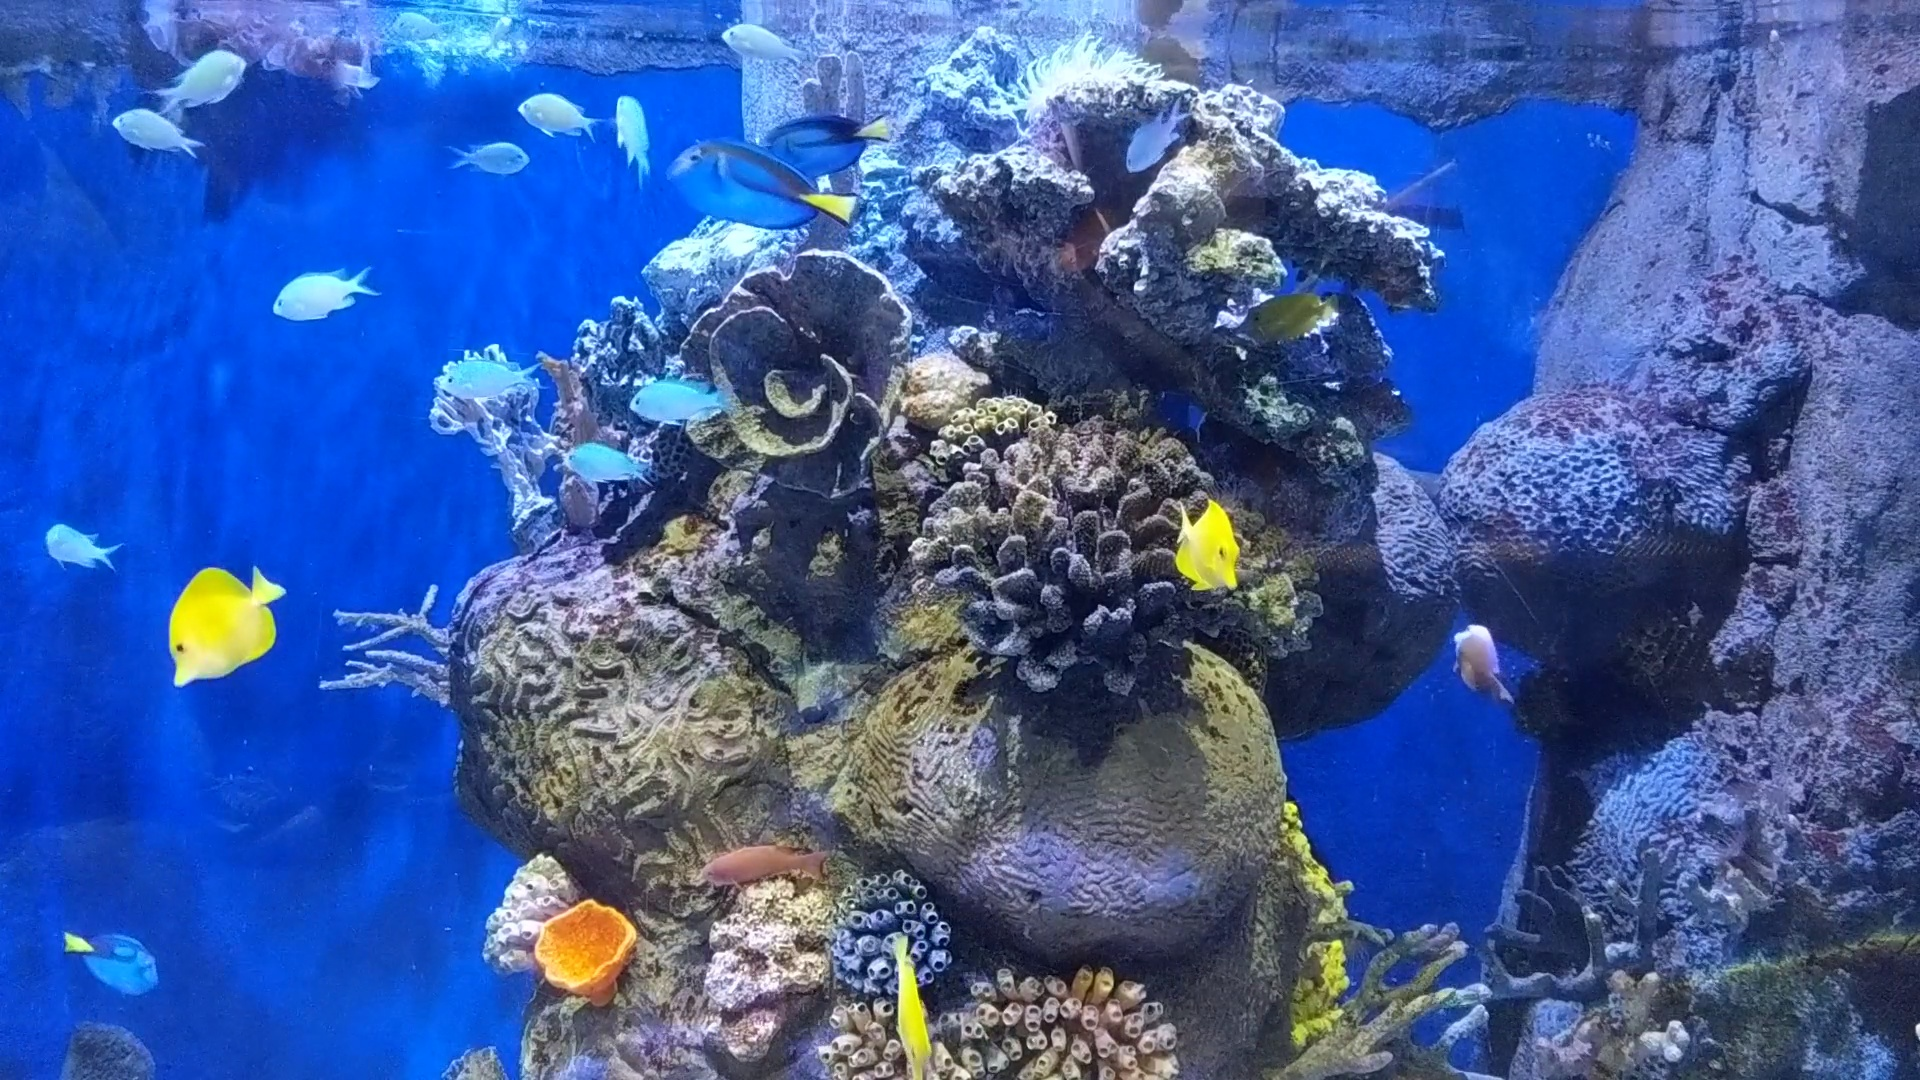blue tang surgeonfish: (654, 121, 858, 235), (769, 95, 901, 179), (61, 924, 171, 1004)
damselfish: (252, 251, 375, 336), (1102, 84, 1199, 179), (553, 429, 662, 502), (504, 79, 604, 156), (430, 338, 535, 410), (98, 102, 210, 169), (618, 364, 733, 429), (154, 41, 251, 115), (719, 13, 815, 83), (41, 512, 125, 574), (442, 127, 530, 177), (615, 83, 655, 187)
pink fish: (1440, 615, 1526, 705)
saddle butterfly fish: (123, 535, 298, 704), (1147, 492, 1254, 604)
